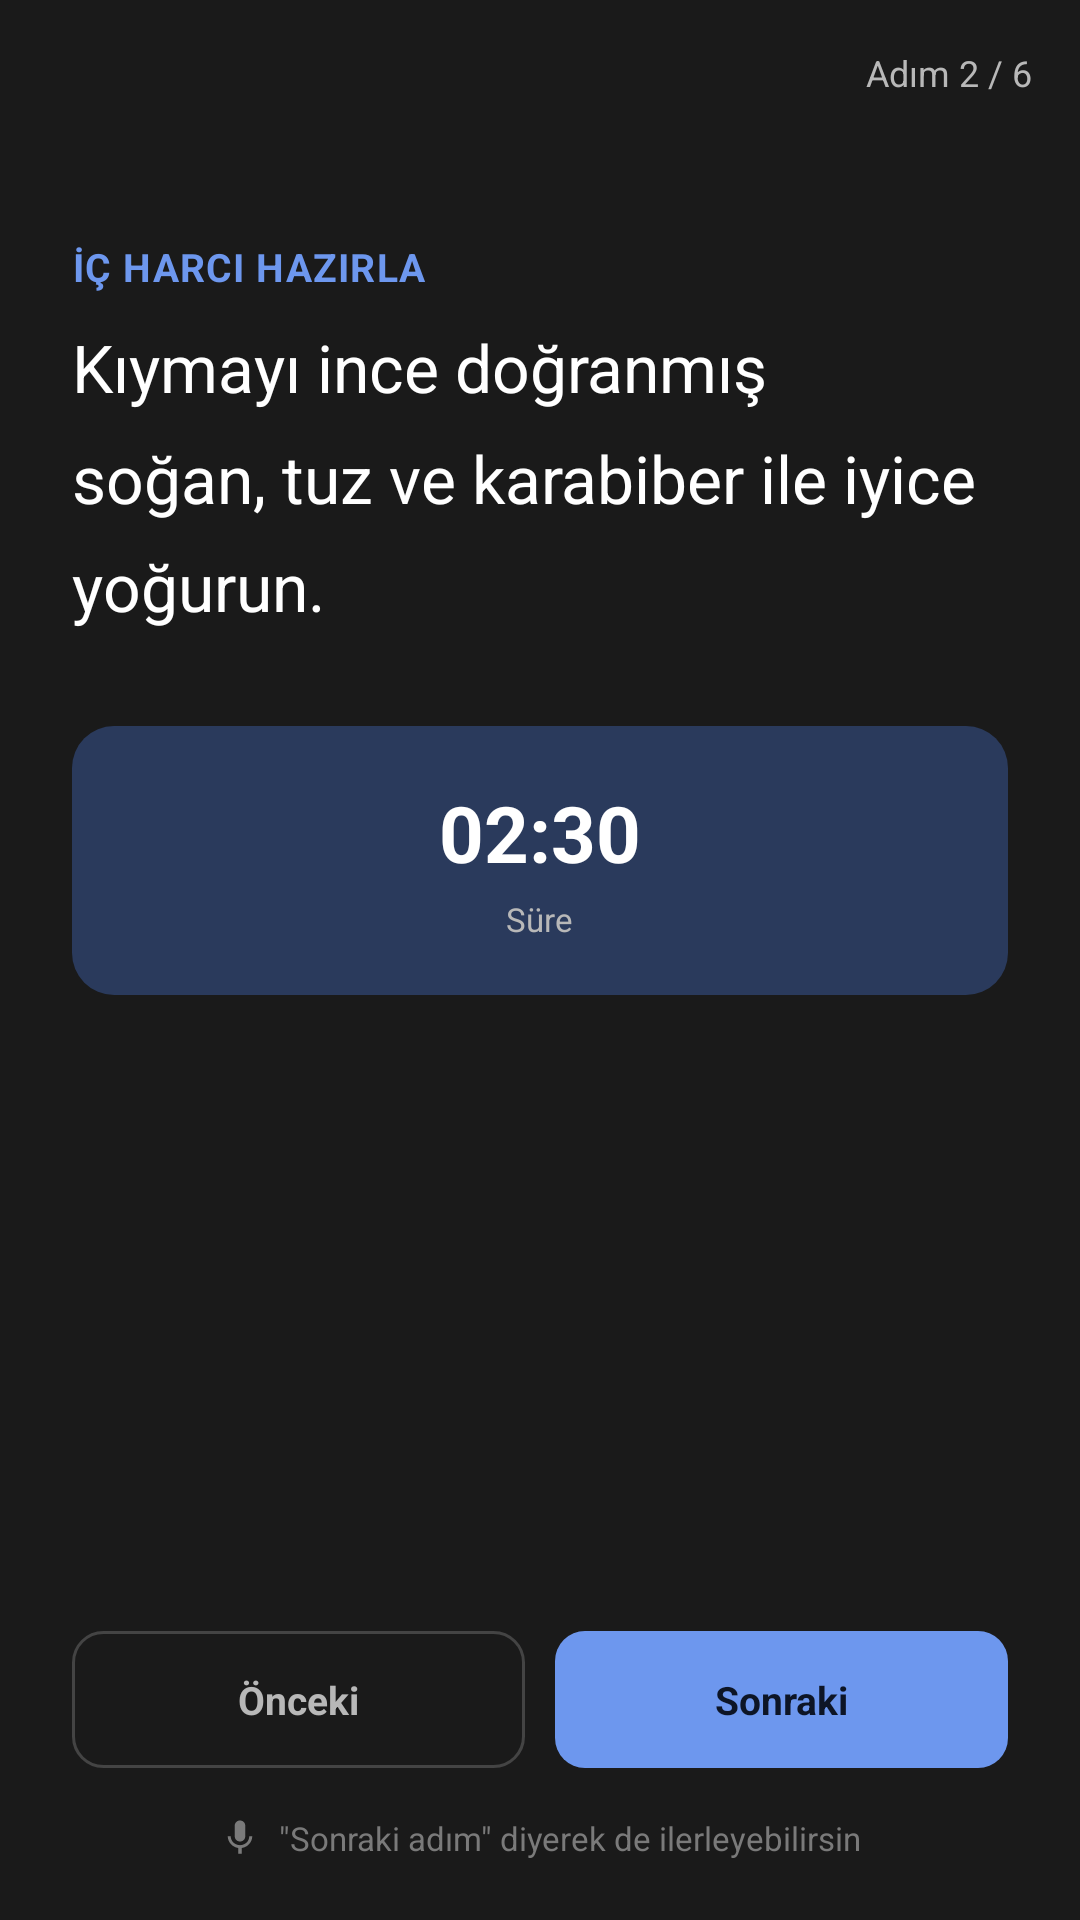

Named icons in this screenshot (1080px x 1920px) and their bounding boxes, (x1, y1, x2, y2):
mic: (228, 1820, 252, 1854)
